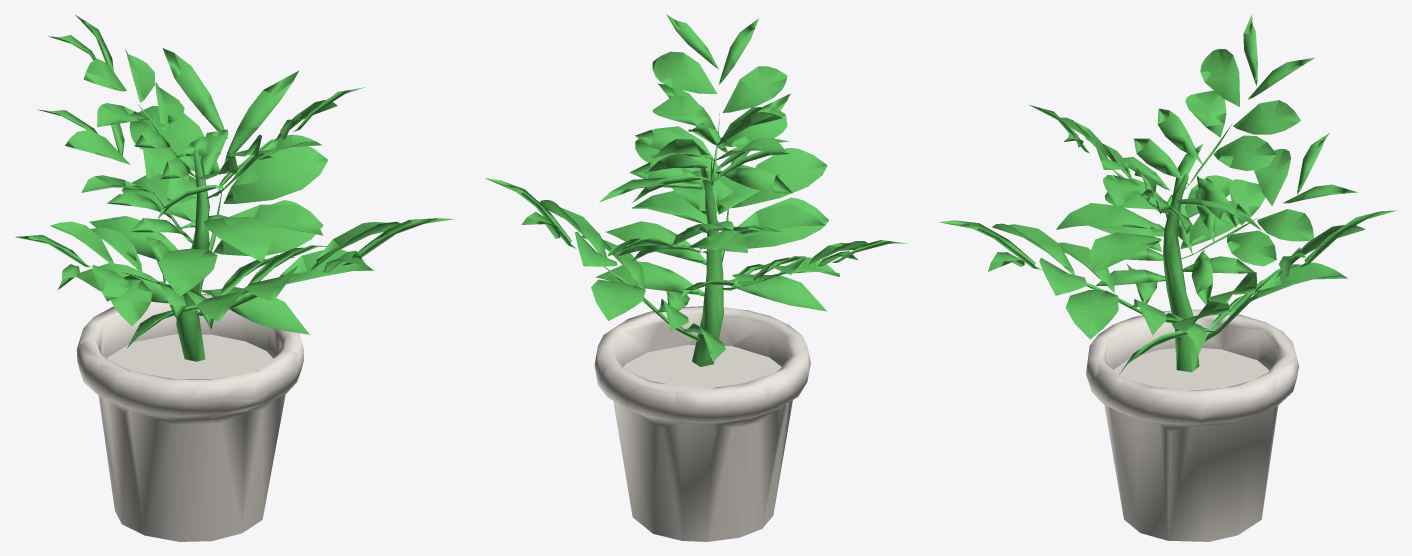
Rendered from plant.glb.
3 renders of one model, left to right at view 1: azimuth 30°, elevation 25°; view 2: azimuth 150°, elevation 25°; view 3: azimuth 270°, elevation 25°, orthographic. The views are drawn at different scales.
Visible parts, largest first — view 1: leaves, pot; view 2: leaves, pot; view 3: leaves, pot.
Part boxes in pixels (x1,y1,x2,y2): leaves: (15,15,455,361); pot: (76,293,303,541); leaves: (485,14,907,366); pot: (594,306,810,541); leaves: (938,14,1397,374); pot: (1086,309,1299,541).
Bounding box in the file's own units: 0.2089 × 0.2766 × 0.2573.
